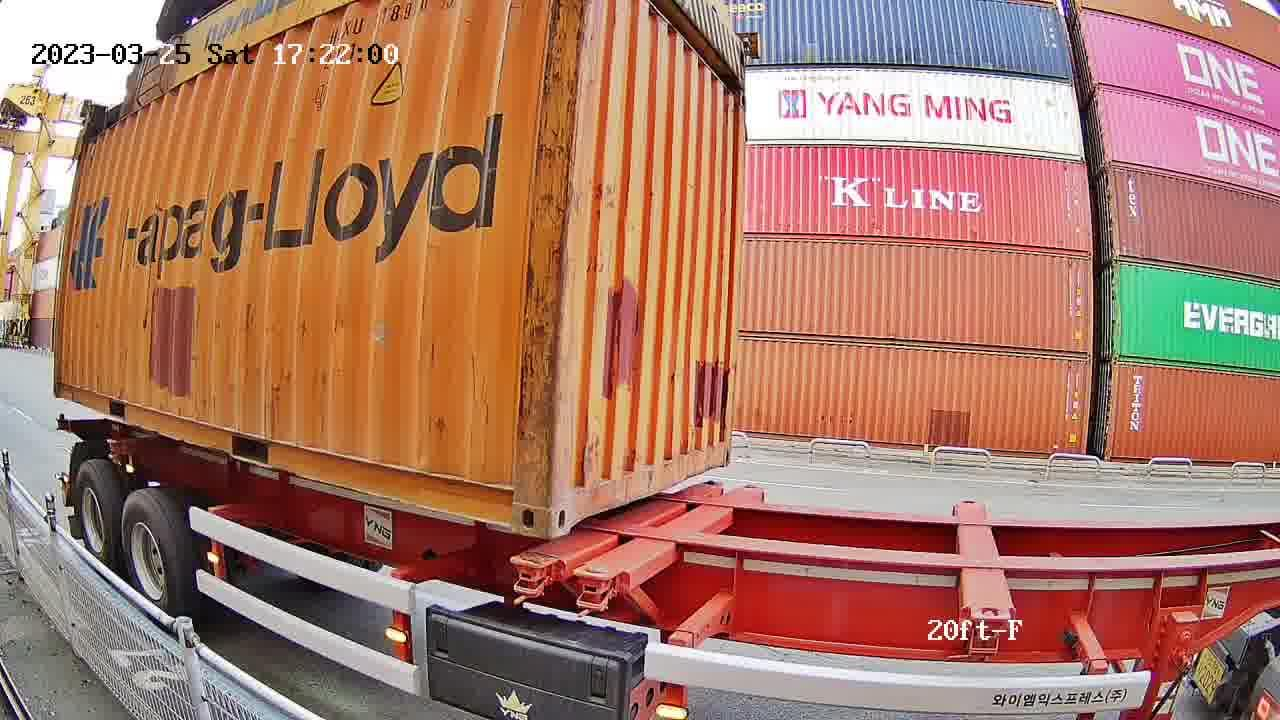Chassis: (574, 484, 770, 597), (513, 482, 729, 564)
Cone: (574, 564, 627, 615), (510, 550, 555, 601)
Hole_L: (549, 452, 597, 536)
Hole_R: (476, 455, 551, 536), (708, 425, 734, 469)
Tire: (120, 490, 188, 619), (72, 461, 122, 572)
